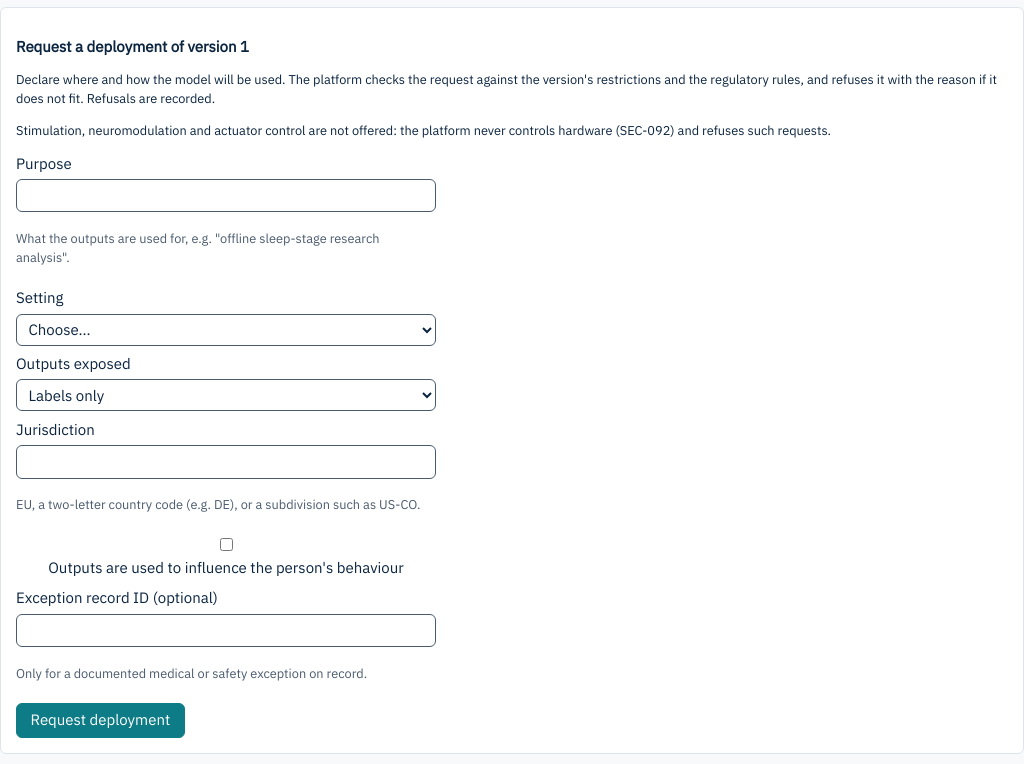
it: deployment requests › sends the declared context and shows the platform refusal with its reasons
Type "seizure alerting" into the field labelled "Purpose" at (226, 196), box [16, 179, 436, 212]
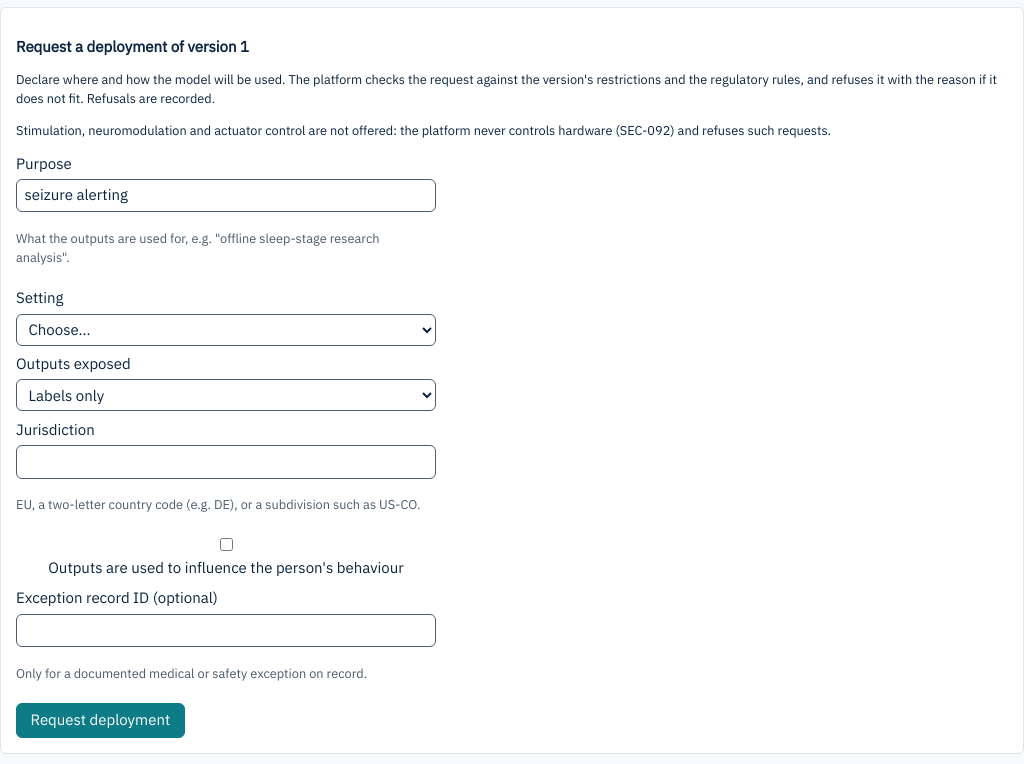
Select "Clinical care" in the dropdown labelled "Setting" at (226, 330), box [16, 314, 436, 346]
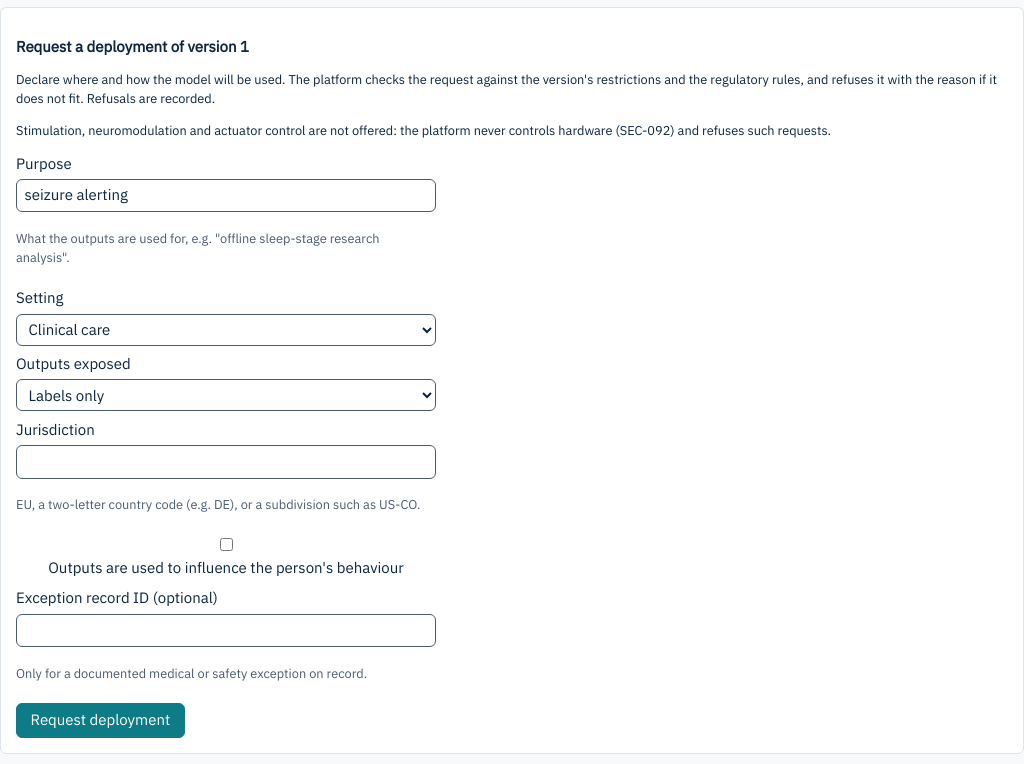
Type "us-co" into the field labelled "Jurisdiction" at (226, 462), box [16, 445, 436, 479]
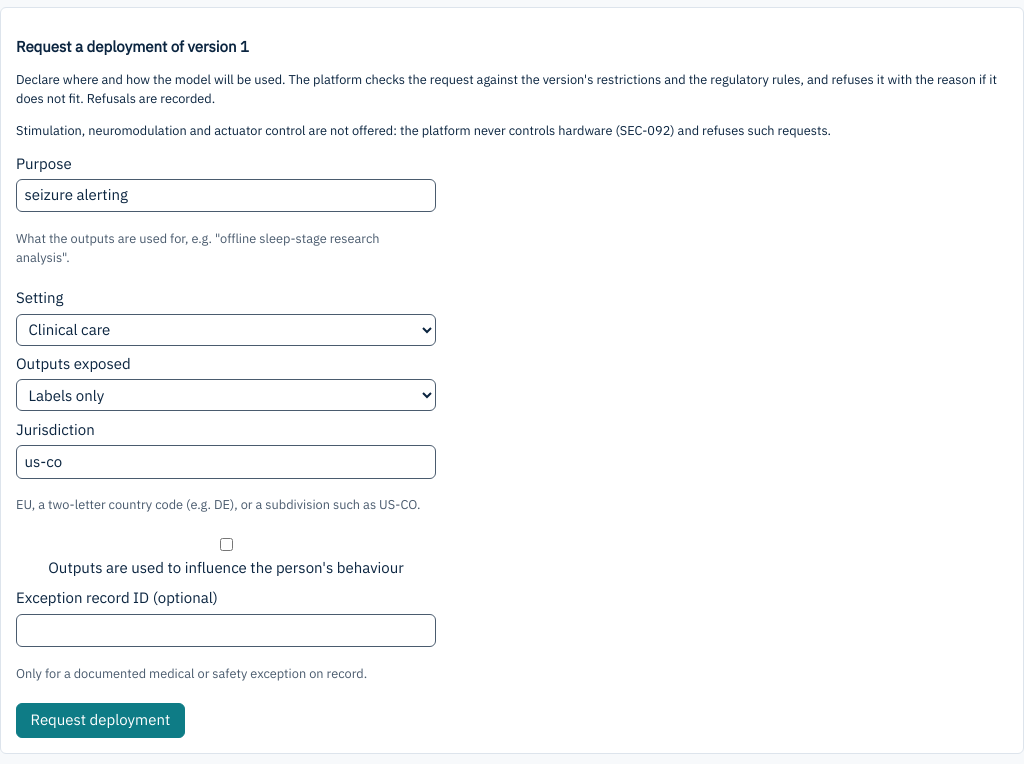
Submit the form named "Request deployment"
(page scrolled)
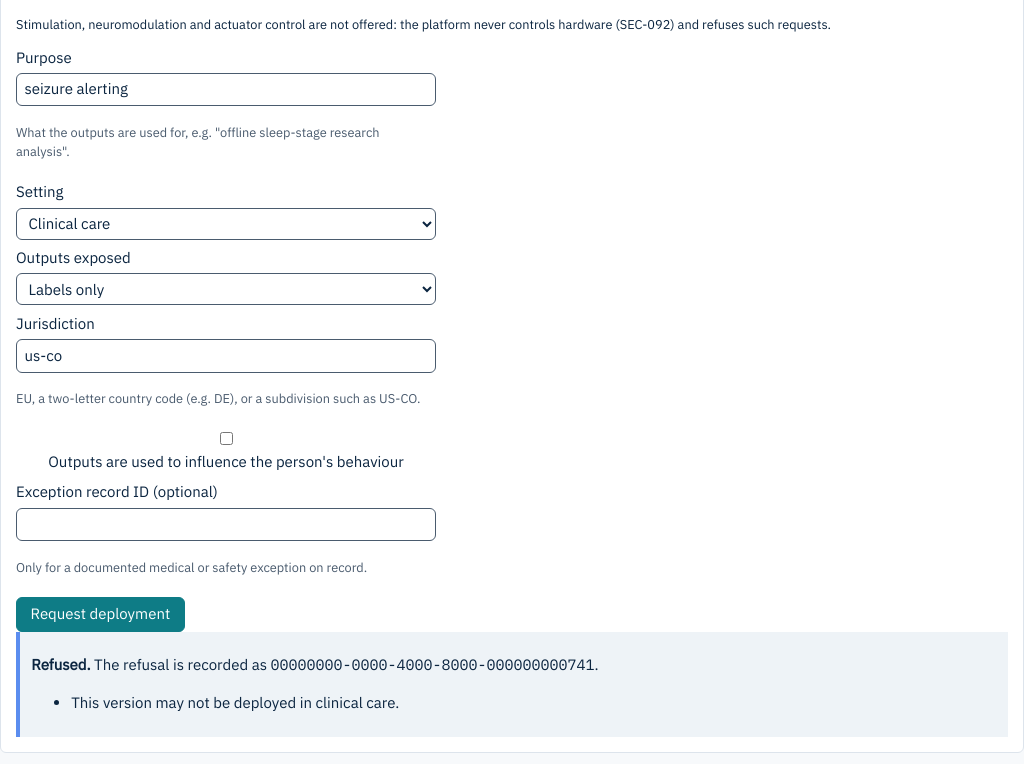
Now the list named "Refusal reasons" reads "This version may not be deployed in clinical care.", box [71, 693, 399, 712]
